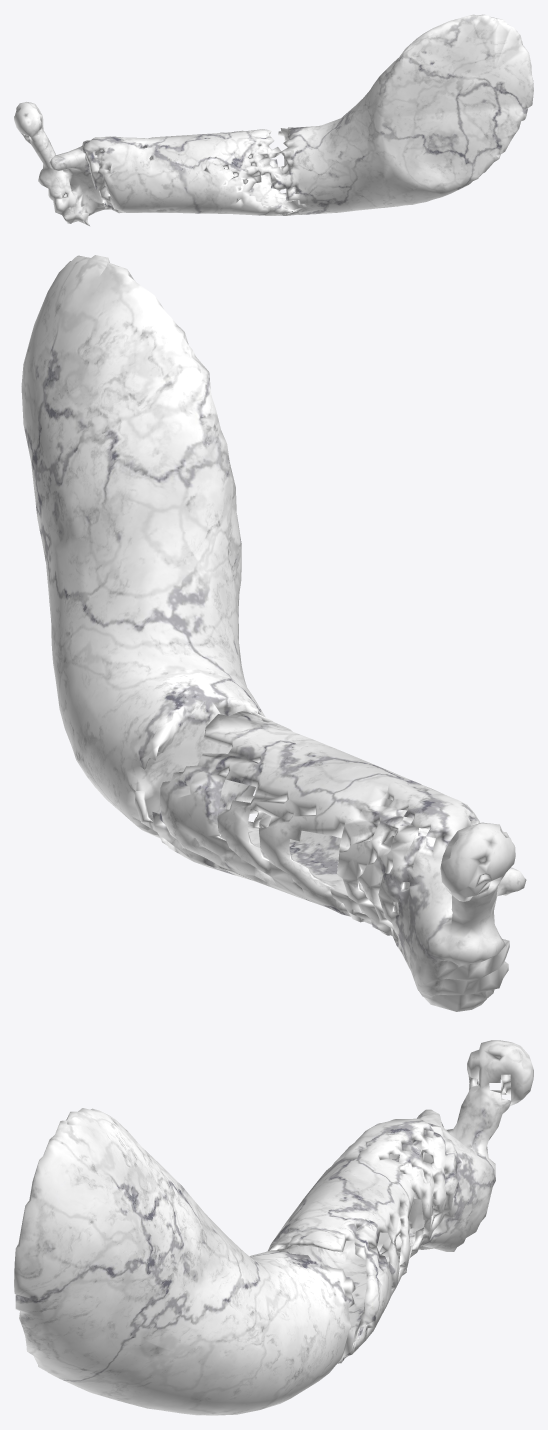
File: statue_right-arm.glb
3 views of the same model, one above another, from view 1: azimuth 30°, elevation 25°; view 2: azimuth 150°, elevation 25°; view 3: azimuth 270°, elevation 25° (orthographic). The views are drawn at different scales.
Visible parts, largest first — view 1: statue_right-arm_Baked; view 2: statue_right-arm_Baked; view 3: statue_right-arm_Baked.
Boxes of the visible parts, box(x1,y1,x2,y2) form: statue_right-arm_Baked: box(14, 14, 533, 225); statue_right-arm_Baked: box(21, 255, 526, 1011); statue_right-arm_Baked: box(14, 1040, 533, 1415).
Bounding box in the file's own units: 1.95 × 1.1 × 1.44.
Materials: 1 (1 with a texture image).
